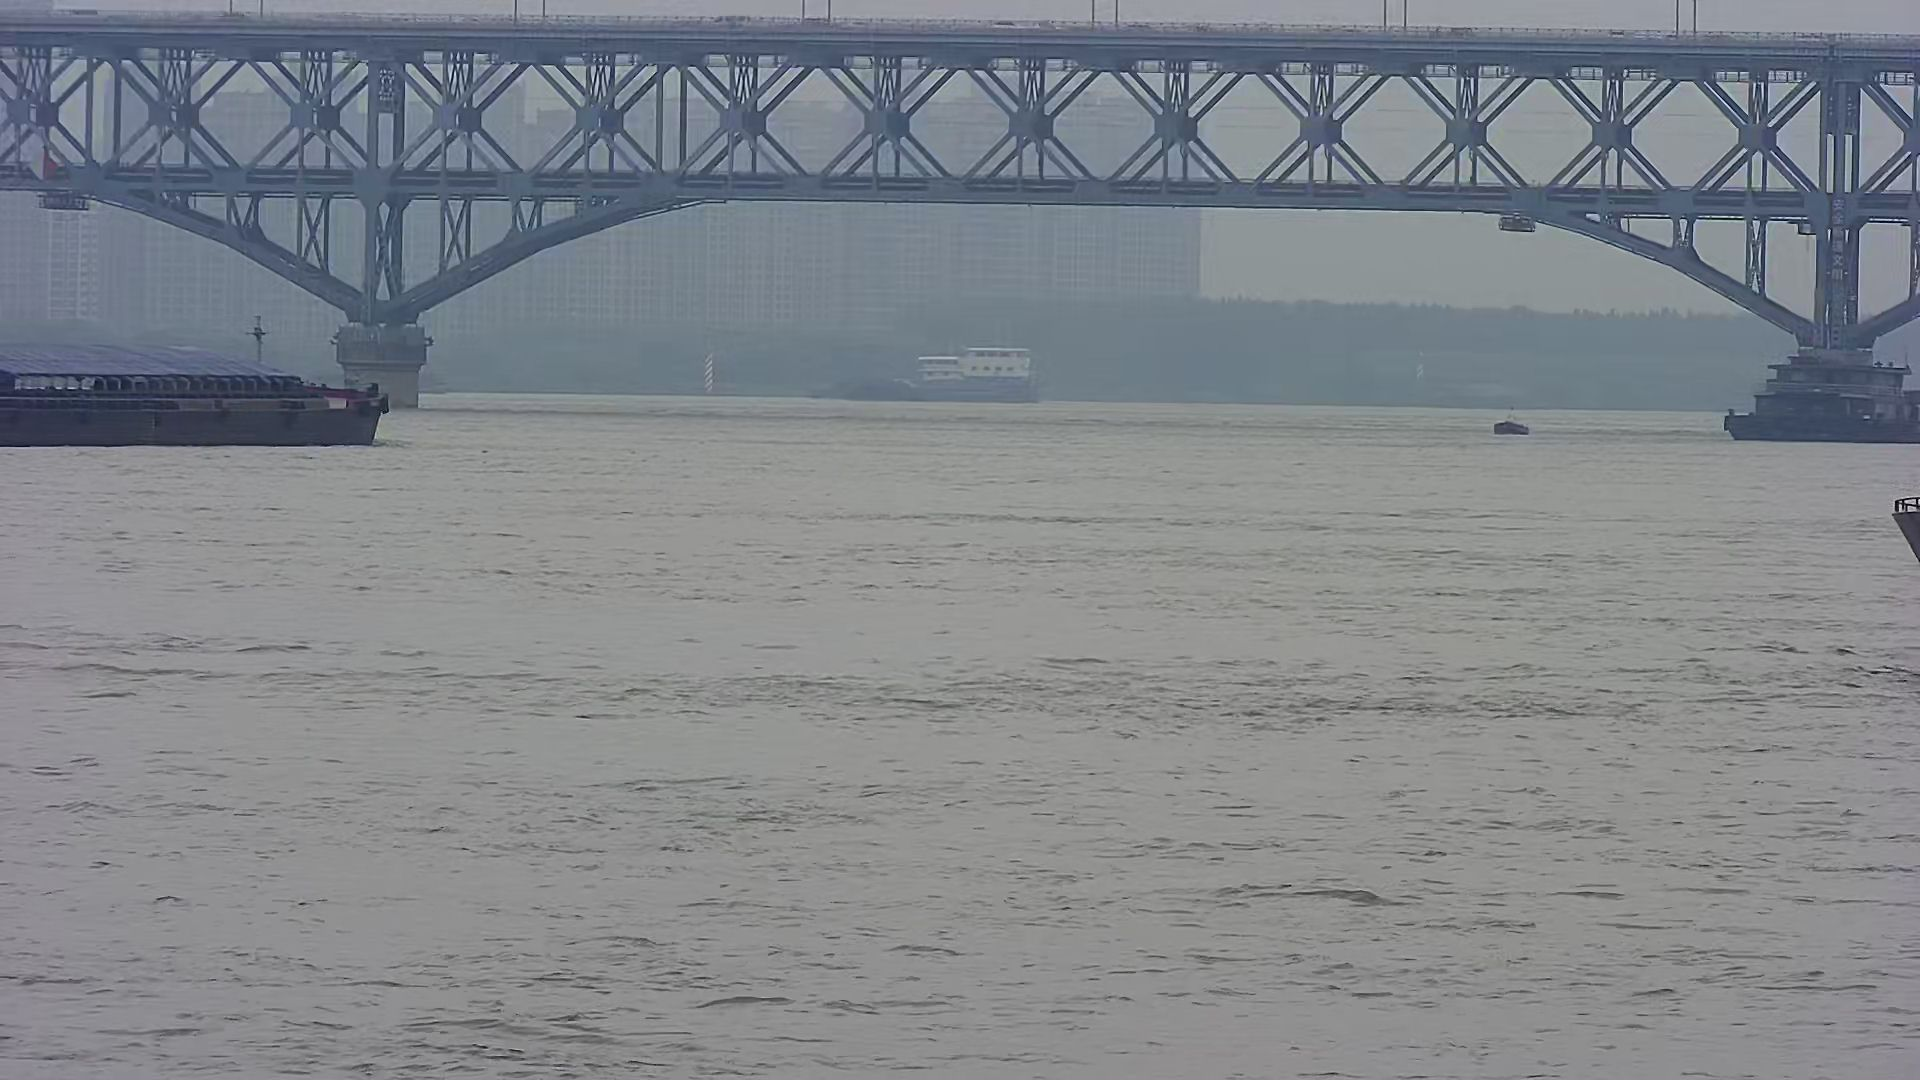boat: (1472, 400, 1552, 442)
bridge: (5, 8, 1920, 425)
ship: (1, 309, 404, 459), (783, 318, 1065, 418), (1700, 342, 1920, 458)
